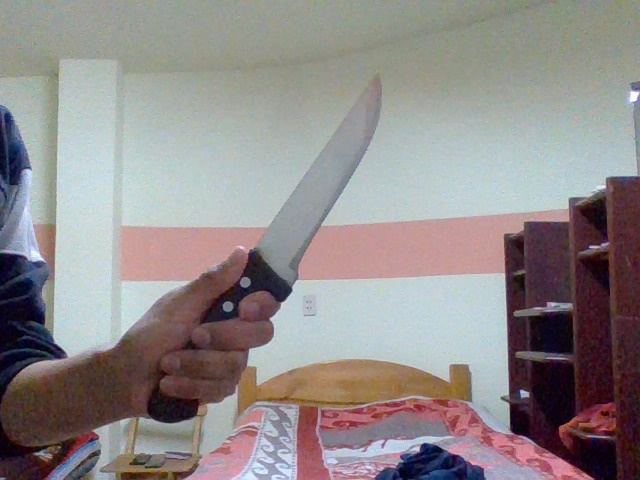cuchillo: (143, 70, 385, 436)
